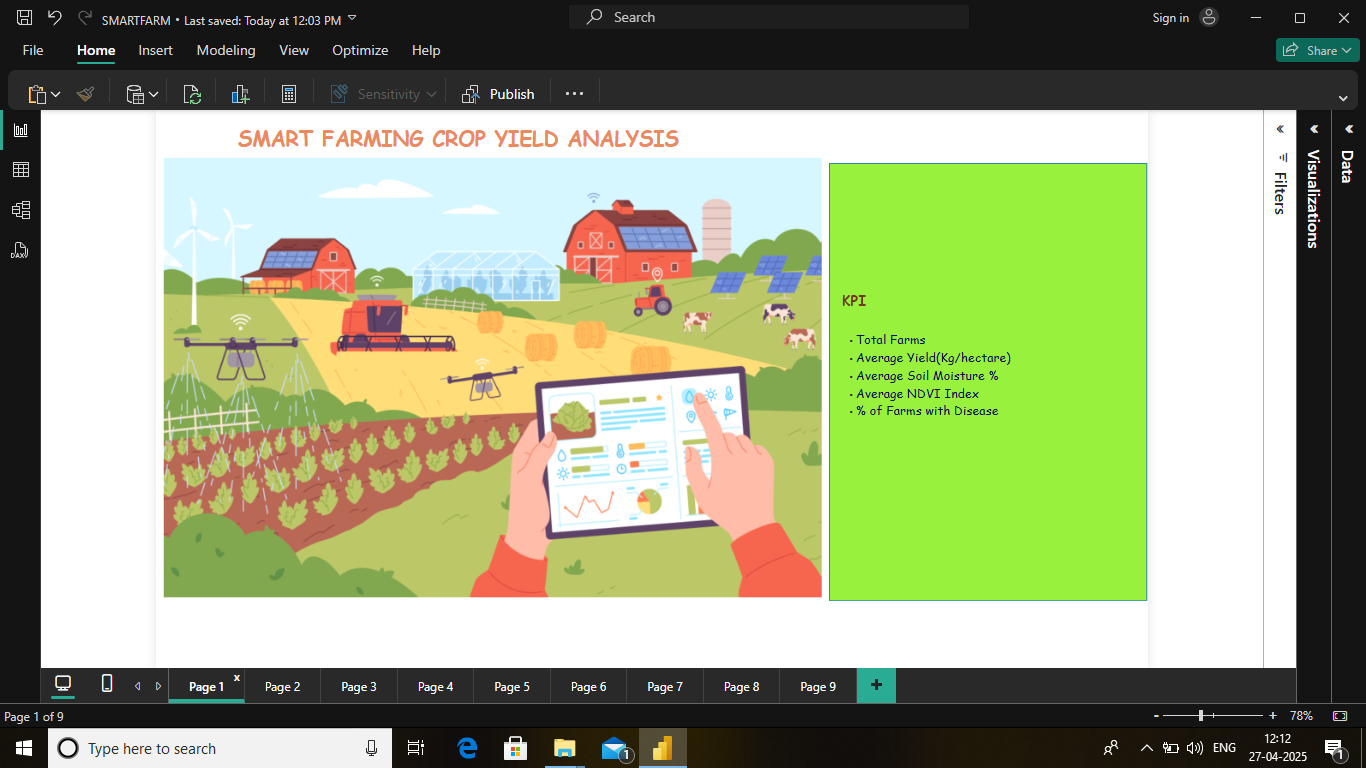

Layout of this report page (visuals, bound fields, positions):
{"tool":"powerbi","page":{"name":"Page 1","canvas":[1280,720],"ordinal":0},"visuals":[{"type":"textbox","box":[100.8,13.4,650.1,55.4],"z":0},{"type":"image","box":[0,56.4,868.9,576.9],"z":2001},{"type":"shape","box":[868.9,68,410.6,565.3],"z":2002},{"type":"textbox","box":[880.5,227,375.9,221.2],"z":2003}]}

Visuals, with their boxes on the page's 1280x720 design canvas (x1, y1, x2, y2). These are canvas units, not pixel positions in the 1366x768 screenshot, which may show the page scaled, cropped or inside an application window:
textbox: 101 13 751 69
image: 0 56 869 633
shape: 869 68 1280 633
textbox: 880 227 1256 448
